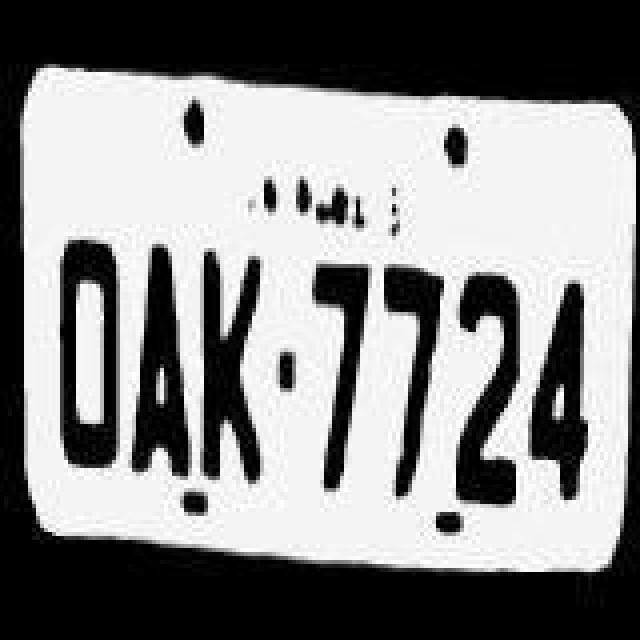2: (450, 242, 526, 514)
4: (526, 248, 594, 512)
7: (306, 234, 382, 498), (382, 256, 450, 508)
A: (122, 234, 198, 502)
K: (194, 232, 278, 500)
O: (48, 232, 128, 504)
